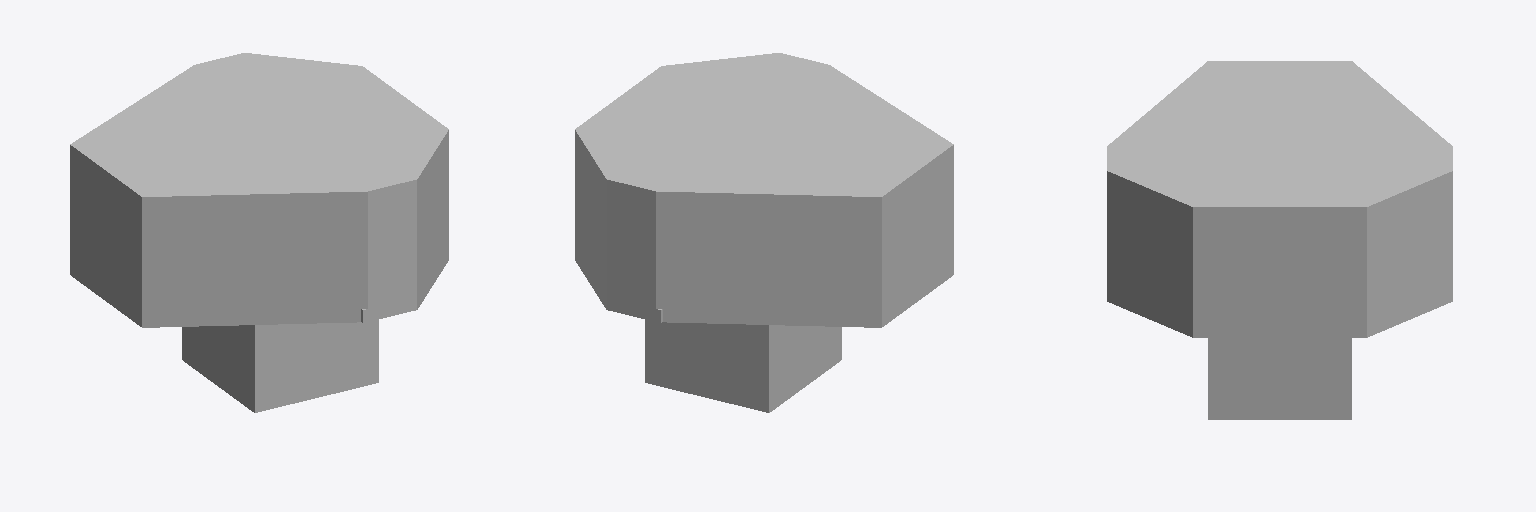
Rendered from 13yard-bouye.obj.
3 renders of one model, left to right at view 1: azimuth 30°, elevation 25°; view 2: azimuth 150°, elevation 25°; view 3: azimuth 270°, elevation 25°, orthographic.
Visible parts, largest first — view 1: entity0_brush525, entity0_brush53, entity0_brush105, entity0_brush52, entity0_brush526, entity0_brush54, entity0_brush96, entity0_brush55, entity0_brush166, entity0_brush80; view 2: entity0_brush525, entity0_brush55, entity0_brush105, entity0_brush56, entity0_brush526, entity0_brush54, entity0_brush95, entity0_brush53, entity0_brush166; view 3: entity0_brush525, entity0_brush105, entity0_brush95, entity0_brush96, entity0_brush166, entity0_brush52, entity0_brush56, entity0_brush80.
Part boxes in pixels (bbox=[...]): entity0_brush525: bbox=[70, 53, 448, 222]; entity0_brush53: bbox=[128, 213, 334, 314]; entity0_brush105: bbox=[182, 320, 378, 412]; entity0_brush52: bbox=[335, 182, 432, 309]; entity0_brush526: bbox=[85, 182, 127, 303]; entity0_brush54: bbox=[70, 262, 360, 327]; entity0_brush96: bbox=[433, 157, 448, 271]; entity0_brush55: bbox=[70, 171, 84, 272]; entity0_brush166: bbox=[392, 248, 448, 315]; entity0_brush80: bbox=[70, 237, 447, 304]; entity0_brush525: bbox=[575, 53, 953, 222]; entity0_brush55: bbox=[689, 213, 895, 314]; entity0_brush105: bbox=[645, 320, 841, 412]; entity0_brush56: bbox=[591, 182, 688, 309]; entity0_brush526: bbox=[896, 182, 938, 303]; entity0_brush54: bbox=[663, 262, 953, 327]; entity0_brush95: bbox=[575, 157, 590, 271]; entity0_brush53: bbox=[939, 171, 953, 272]; entity0_brush166: bbox=[575, 248, 631, 315]; entity0_brush525: bbox=[1107, 61, 1452, 233]; entity0_brush105: bbox=[1208, 338, 1351, 419]; entity0_brush95: bbox=[1280, 215, 1409, 324]; entity0_brush96: bbox=[1150, 215, 1279, 324]; entity0_brush166: bbox=[1107, 289, 1452, 337]; entity0_brush52: bbox=[1107, 197, 1149, 305]; entity0_brush56: bbox=[1410, 197, 1452, 305]; entity0_brush80: bbox=[1107, 276, 1452, 314].
Bounding box in the file's own units: 6144 × 4768 × 6144.